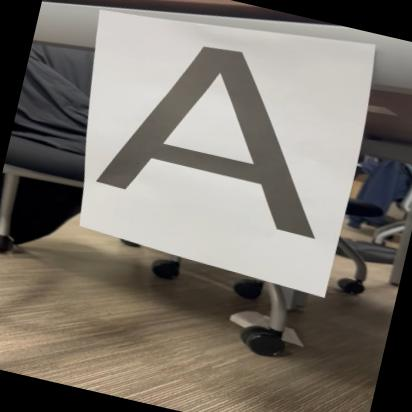seat: (76, 21, 364, 263)
